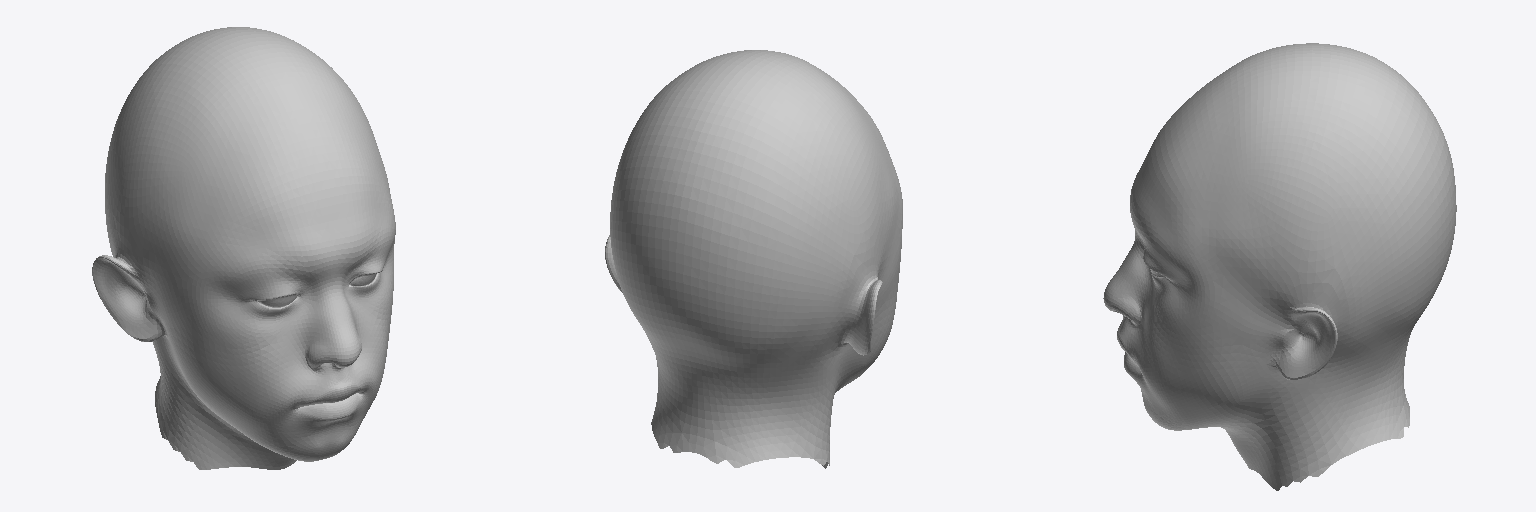
The model's file is hjx.obj.
The picture shows the model from 3 angles: view 1: azimuth 30°, elevation 25°; view 2: azimuth 150°, elevation 25°; view 3: azimuth 270°, elevation 25°; orthographic projection.
Visible parts, largest first — view 1: FaceBuilderHead_FaceBuilderHead_mesh; view 2: FaceBuilderHead_FaceBuilderHead_mesh; view 3: FaceBuilderHead_FaceBuilderHead_mesh.
Part boxes in pixels (x1,y1,x2,y2): FaceBuilderHead_FaceBuilderHead_mesh: (92,27,395,469); FaceBuilderHead_FaceBuilderHead_mesh: (605,50,902,468); FaceBuilderHead_FaceBuilderHead_mesh: (1103,43,1456,490).
Size of the model in its own units: 1.74 by 2.5 by 1.96.